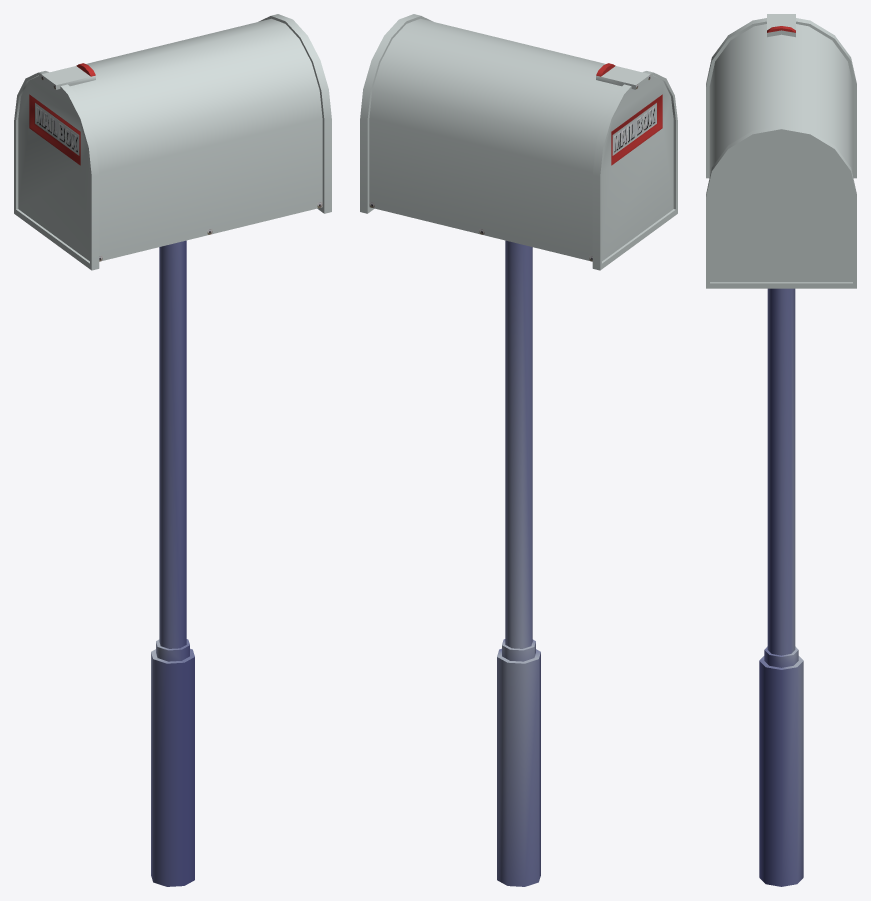
The picture shows the model from 3 angles, left to right: view 1: azimuth 30°, elevation 25°; view 2: azimuth 150°, elevation 25°; view 3: azimuth 270°, elevation 25°; orthographic projection. The views are drawn at different scales.
Visible parts, largest first — view 1: Joint_0_Object_1, Joint_0_Object_0; view 2: Joint_0_Object_1, Joint_0_Object_0; view 3: Joint_0_Object_1, Joint_0_Object_0.
Boxes of the visible parts, x1=… form: Joint_0_Object_1: x1=14, y1=14, x2=331, y2=270; Joint_0_Object_0: x1=151, y1=240, x2=194, y2=886; Joint_0_Object_1: x1=360, y1=14, x2=677, y2=270; Joint_0_Object_0: x1=497, y1=240, x2=540, y2=886; Joint_0_Object_1: x1=706, y1=14, x2=856, y2=288; Joint_0_Object_0: x1=759, y1=288, x2=803, y2=886.
Size of the model in its own units: 572 by 1865 by 315.
2 materials, 2 textured.
